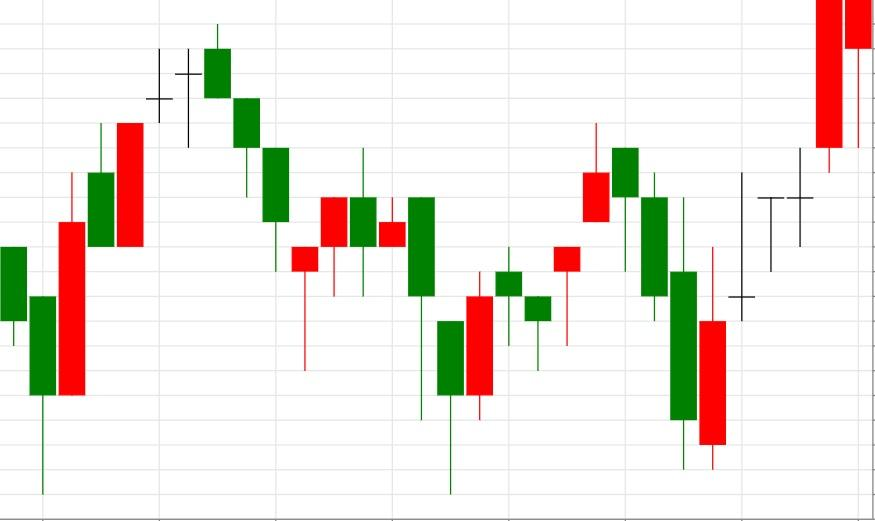bearish_engulfing_fall: (290, 149, 436, 420)
hammer_rise: (203, 23, 319, 371)
three_black_crows_fall: (28, 24, 290, 496)
